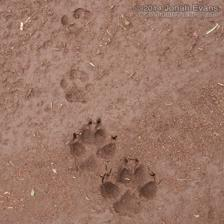coyote: (98, 157, 162, 217), (66, 117, 121, 177)
